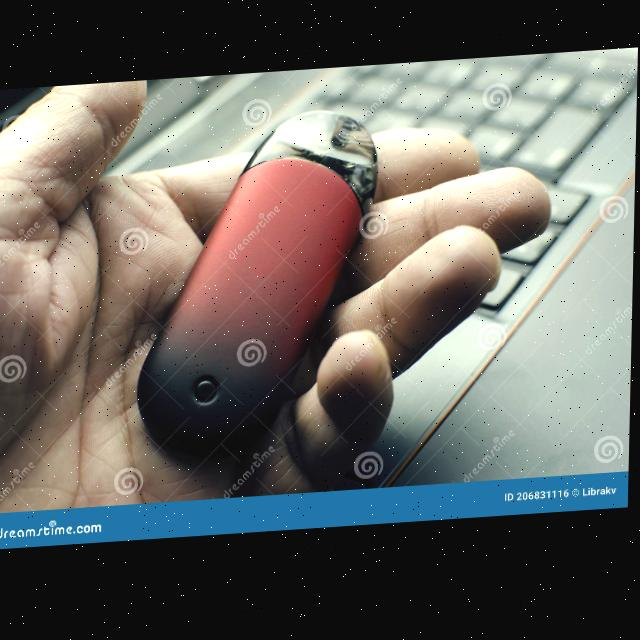vape: (140, 112, 382, 470)
